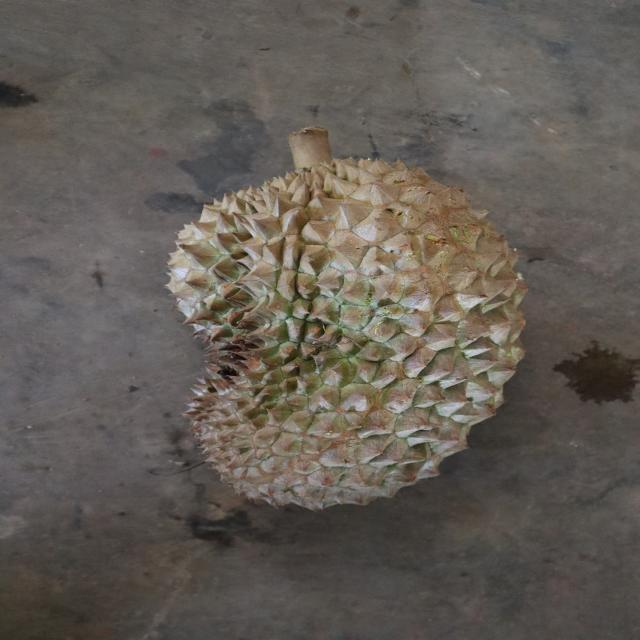mature: (162, 159, 528, 515)
